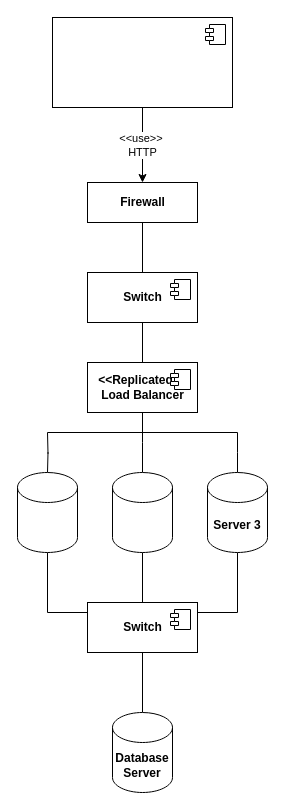
Image size: 285x810. Some labels were removed from this diagram. Here are the shapes that lost their labels. From the top down, the box of each, then its label:
(52, 16, 232, 108): <<Component>> Client Browser
(16, 472, 78, 552): Server 1
(112, 472, 172, 552): Server 2
